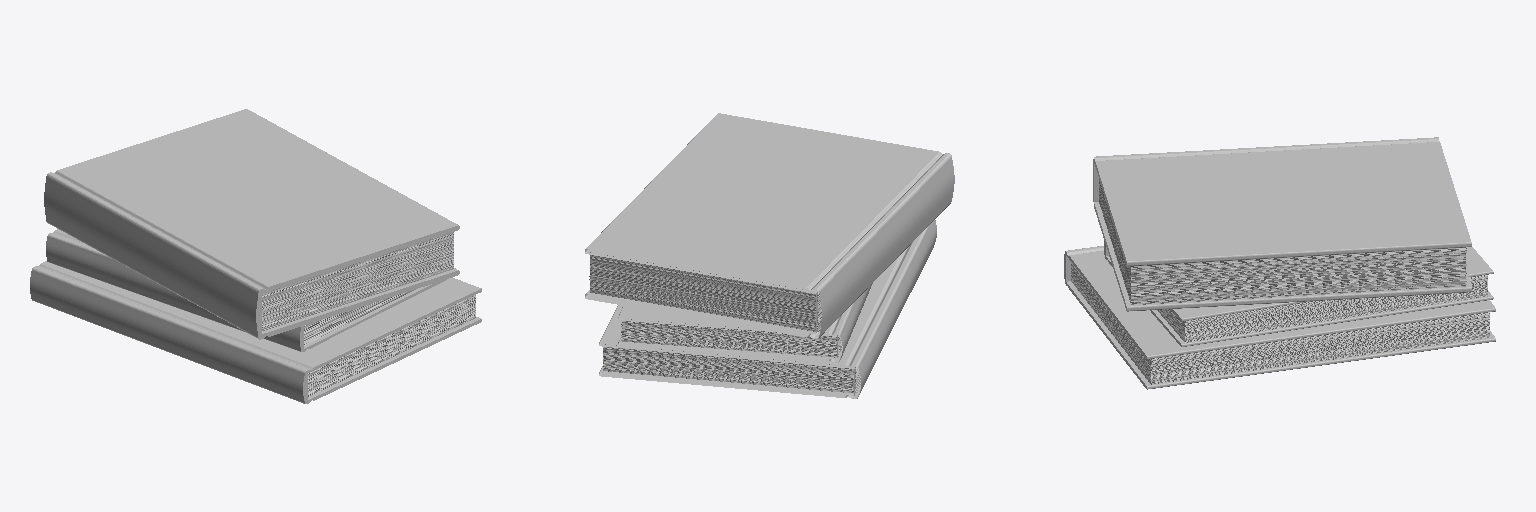
The model's file is stack.obj.
3 renders of one model, left to right at view 1: azimuth 30°, elevation 25°; view 2: azimuth 150°, elevation 25°; view 3: azimuth 270°, elevation 25°, orthographic.
Visible parts, largest first — view 1: Book01, Book03, Book02; view 2: Book01, Book03, Book02; view 3: Book01, Book03, Book02.
Boxes of the visible parts, box(x1,y1,x2,y2) form: Book01: box(44, 109, 459, 339); Book03: box(30, 261, 481, 403); Book02: box(46, 229, 446, 351); Book01: box(585, 113, 954, 338); Book03: box(599, 220, 936, 398); Book02: box(618, 283, 872, 362); Book01: box(1093, 137, 1471, 311); Book03: box(1064, 246, 1495, 389); Book02: box(1104, 241, 1493, 346).
Size of the model in its own units: 30 by 10.06 by 35.14.